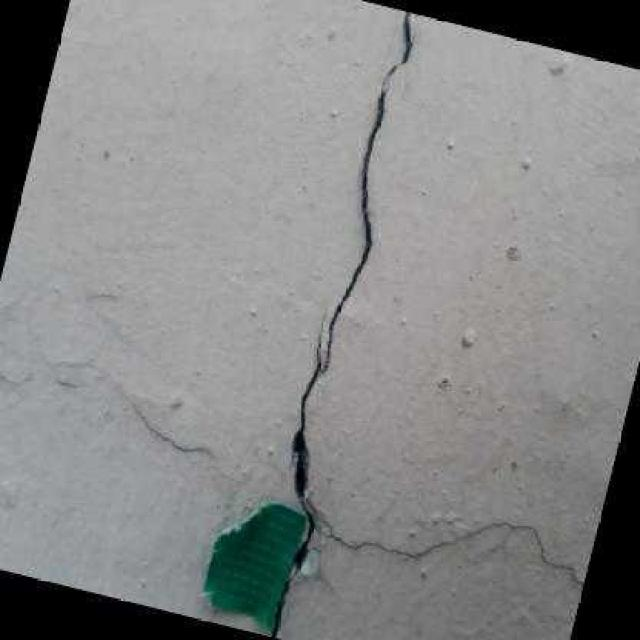D00: (322, 12, 413, 374), (270, 311, 325, 639)
